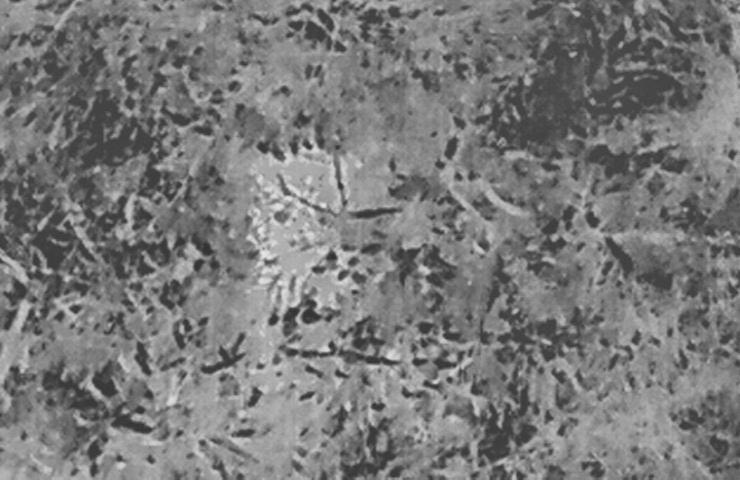landmines: (254, 147, 366, 298)
